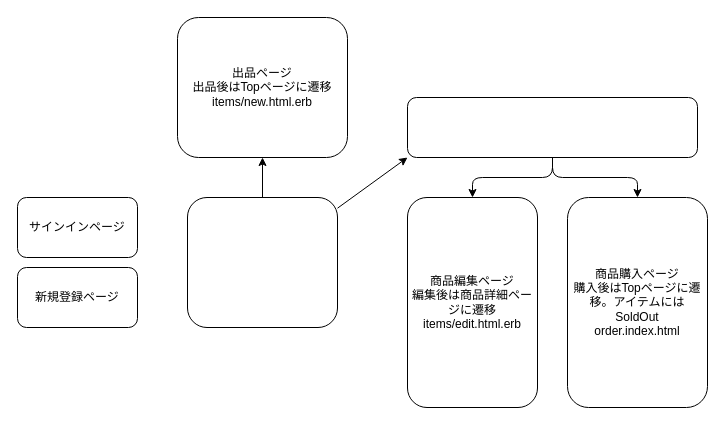
This 725x425 diagram has some shape labels left out. Here are the shapes that lost their labels. From the top down, the box of each, then its label:
(406, 96, 698, 158): 商品詳細ページ items/show.html.erb
(186, 196, 338, 328): Topページ items/index.html.erb
